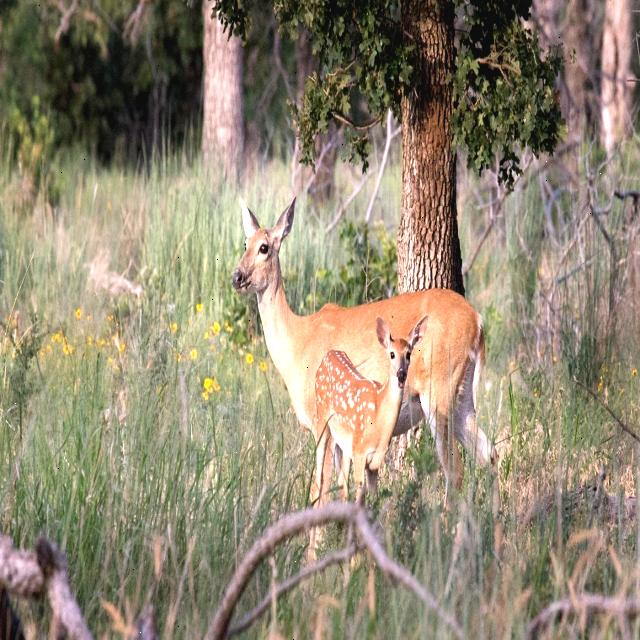deer: (234, 197, 300, 313), (364, 312, 434, 408)
